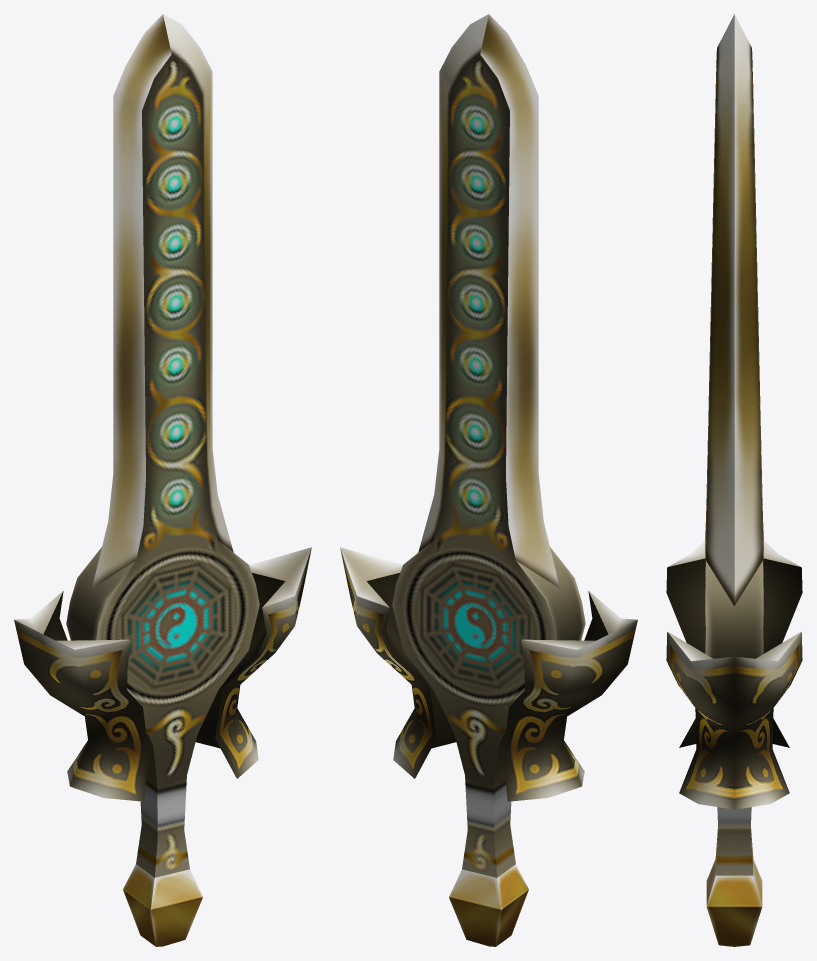
File: Sword07.FBX
3 renders of one model, left to right at view 1: azimuth 30°, elevation 25°; view 2: azimuth 150°, elevation 25°; view 3: azimuth 270°, elevation 25°, orthographic.
Parts seen in each view (by area): view 1: Sword07; view 2: Sword07; view 3: Sword07.
Boxes of the visible parts, bbox=[...] form: Sword07: bbox=[14, 14, 311, 946]; Sword07: bbox=[340, 14, 637, 946]; Sword07: bbox=[666, 14, 802, 946].
Bounding box in the file's own units: 72.17 × 216 × 28.54.
